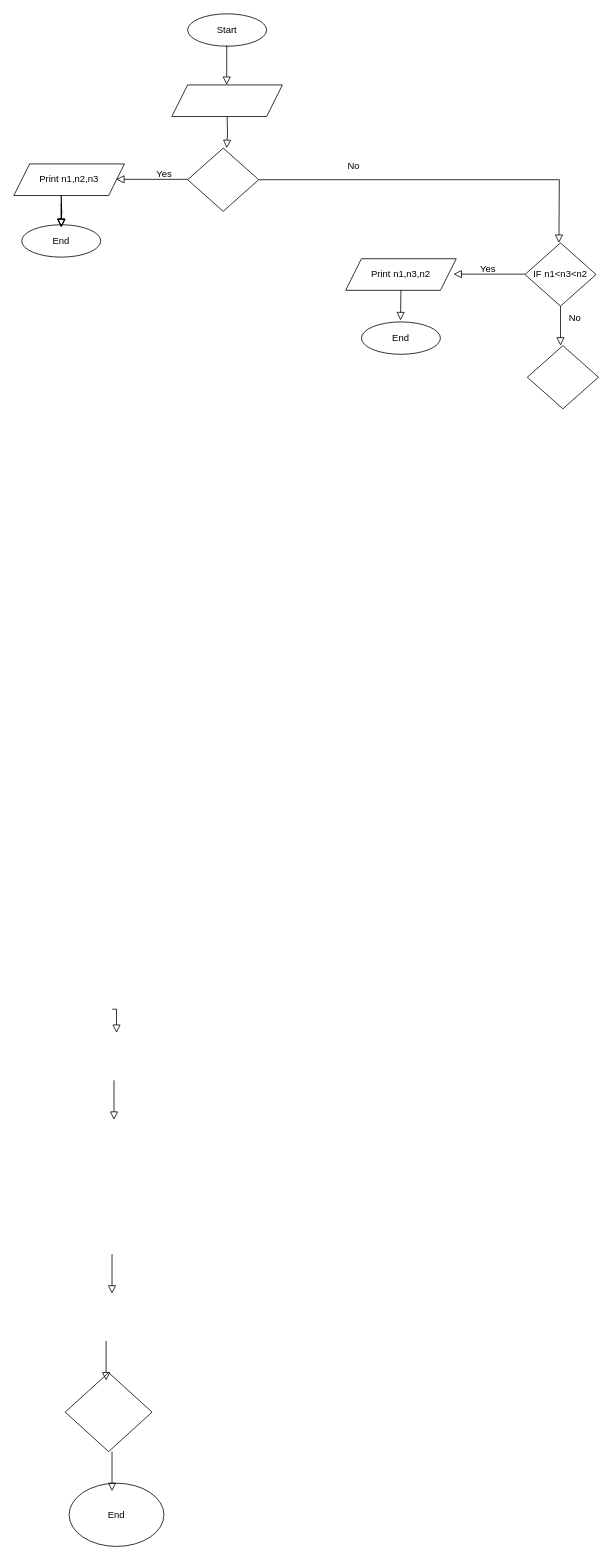
The diagram is 612 pixels wide and 1560 high, and some of its shapes have lost their labels. Here are the shapes that lost their labels. From the top down, the centre of each, then its label:
At (x=226, y=100): "Read n1,n2,23".
At (x=223, y=179): "IF n1<n2<n3".
At (x=562, y=377): "IF n2<n1<n3".
At (x=108, y=1412): "Check if n=n 2".
